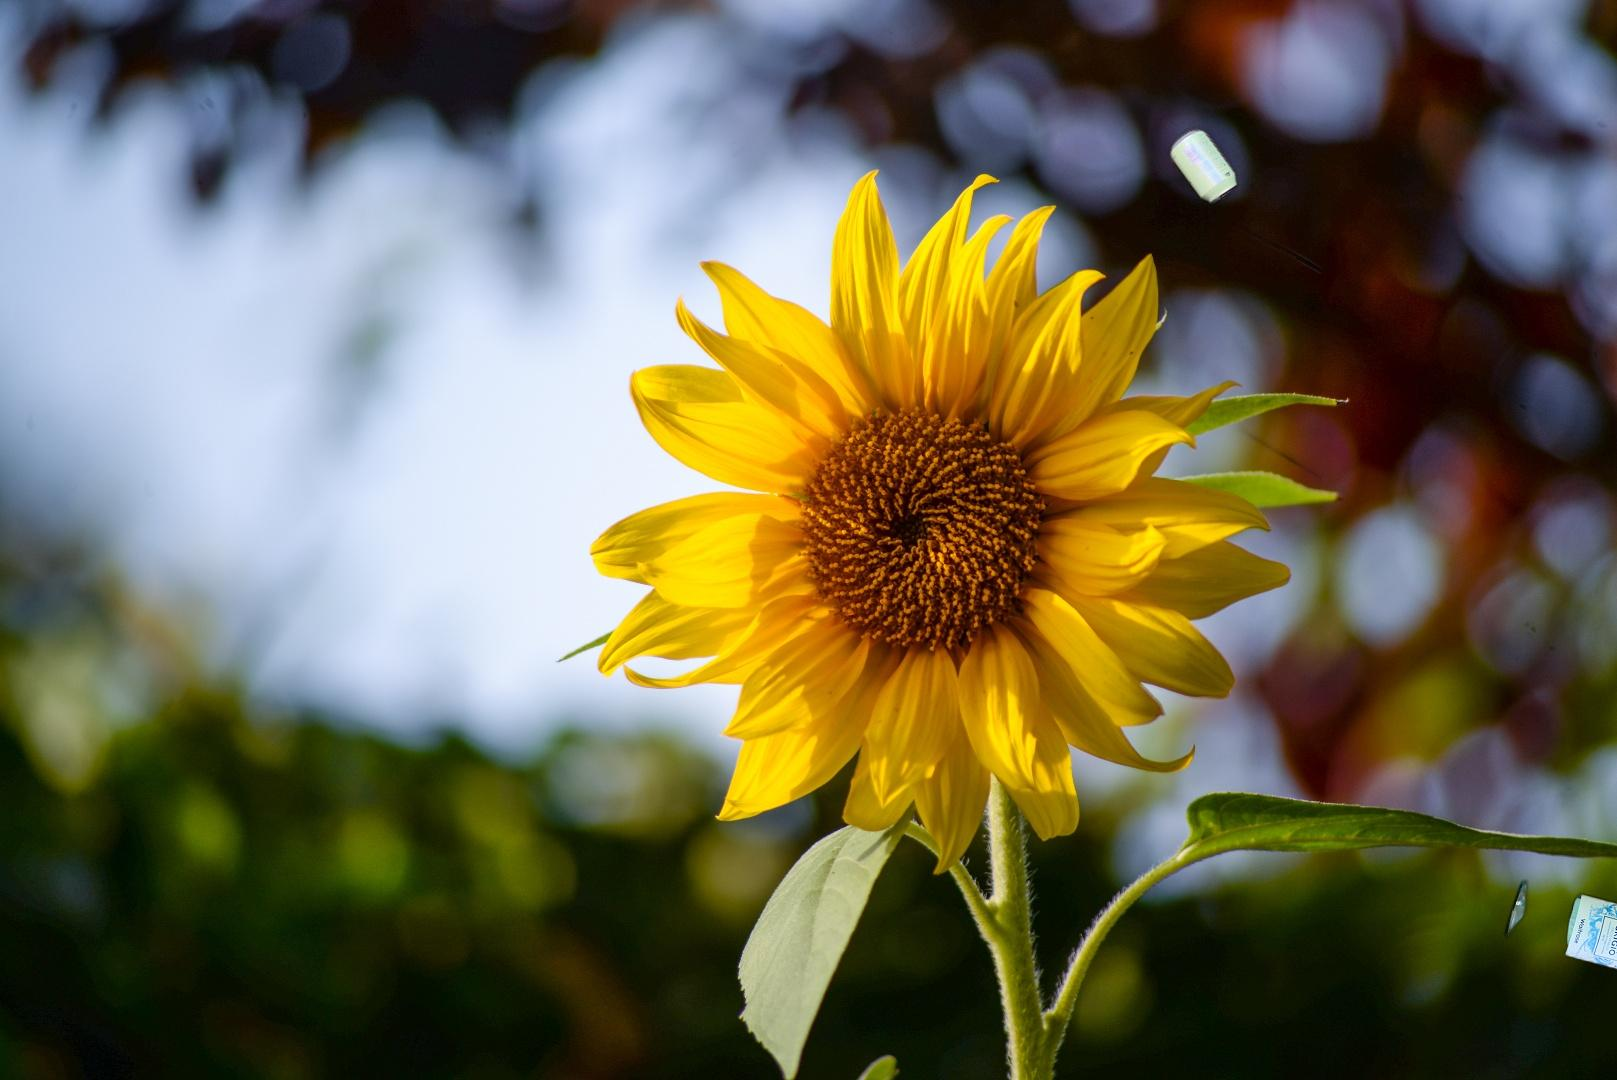glass: (1501, 874, 1617, 985)
metal-cans: (810, 47, 1322, 487)
